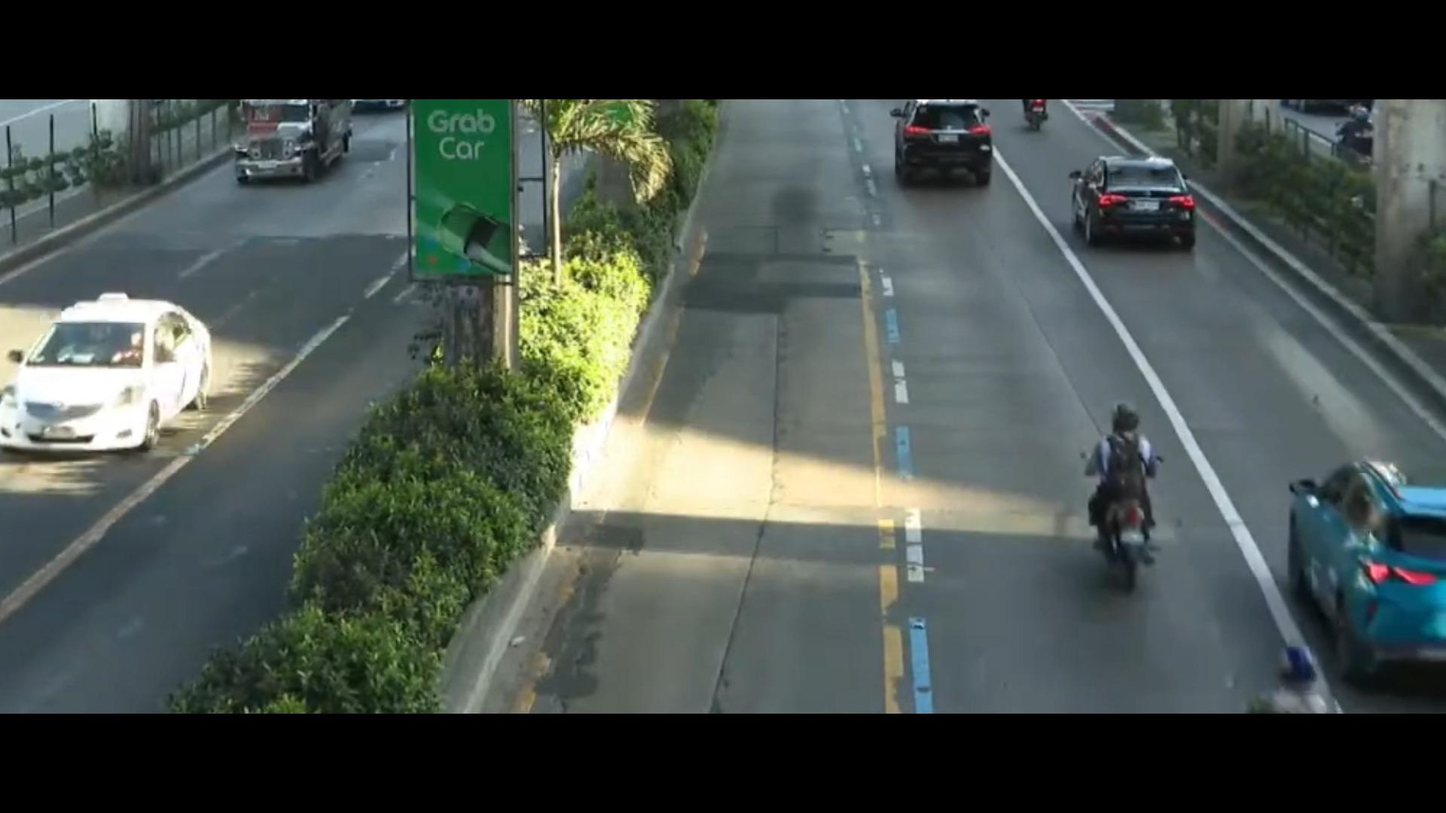Jeepney: (232, 99, 364, 192)
Motorcycle: (1066, 396, 1182, 608)
SUV: (1260, 431, 1446, 679), (869, 97, 1025, 205)
Sedan: (0, 285, 249, 518), (1038, 140, 1215, 268)
